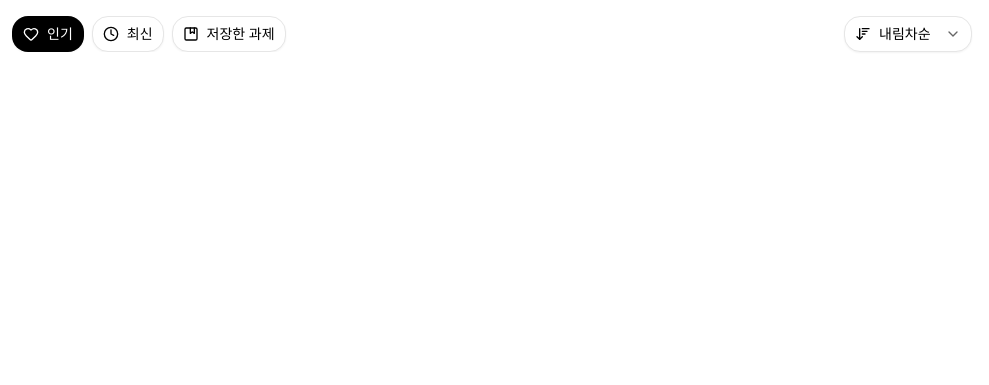
Scenario: CommunityFilter › opens sort dropdown on click
The width and height of the screenshot is (989, 385).
Click the button "내림차순". click: point(908, 34)
box: [844,16,972,52]
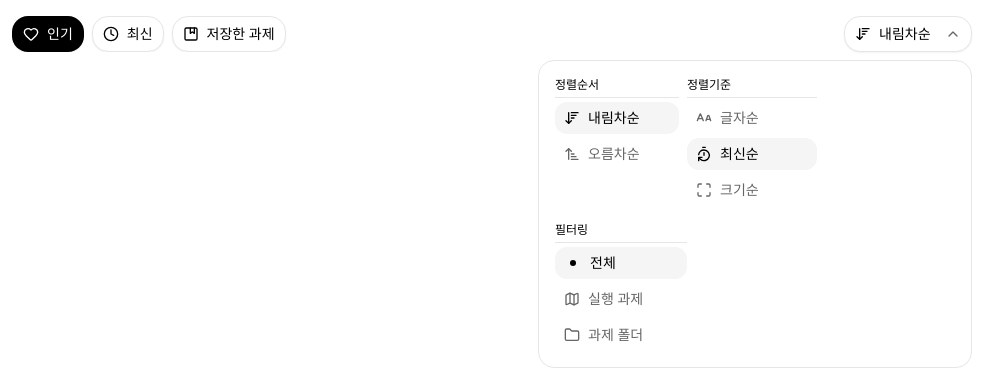
Now the text "정렬순서" is shown, box [555,76,599,93]
Now the text "정렬기준" is shown, box [687,76,731,93]
Now the text "필터링" is shown, box [555,221,588,238]
